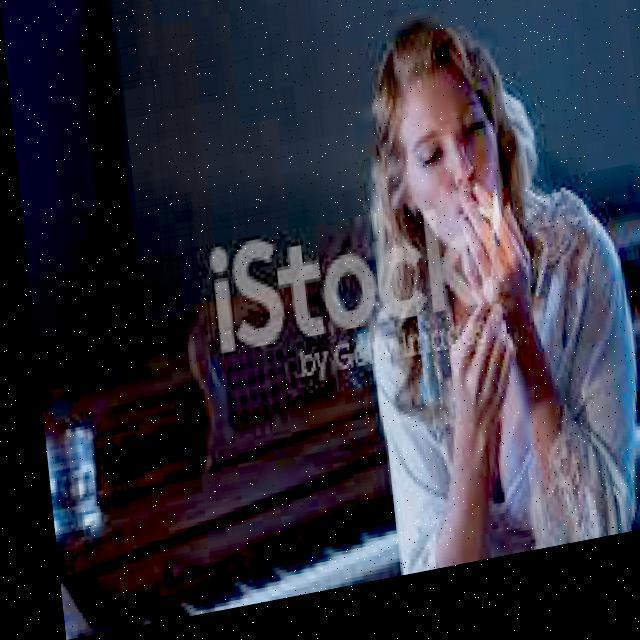Fire: (474, 200, 502, 256)
